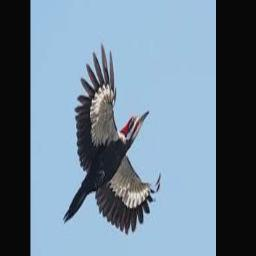Woodpecker: (63, 42, 161, 233)
